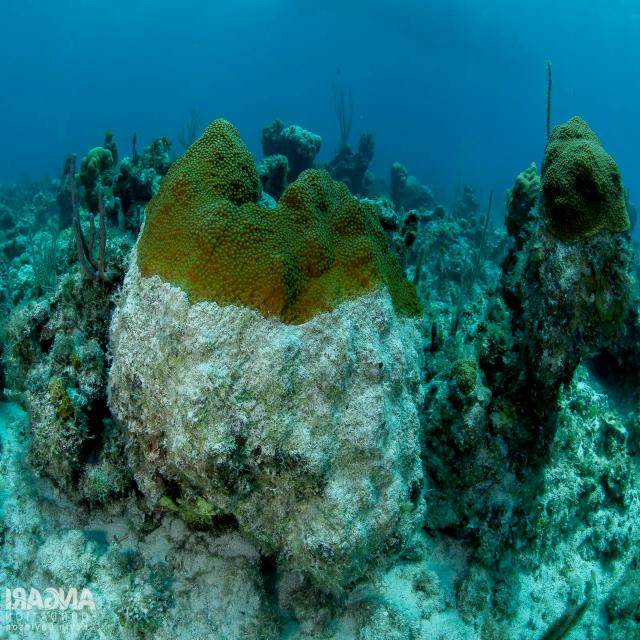Coral: (104, 117, 428, 593), (538, 113, 630, 245)
